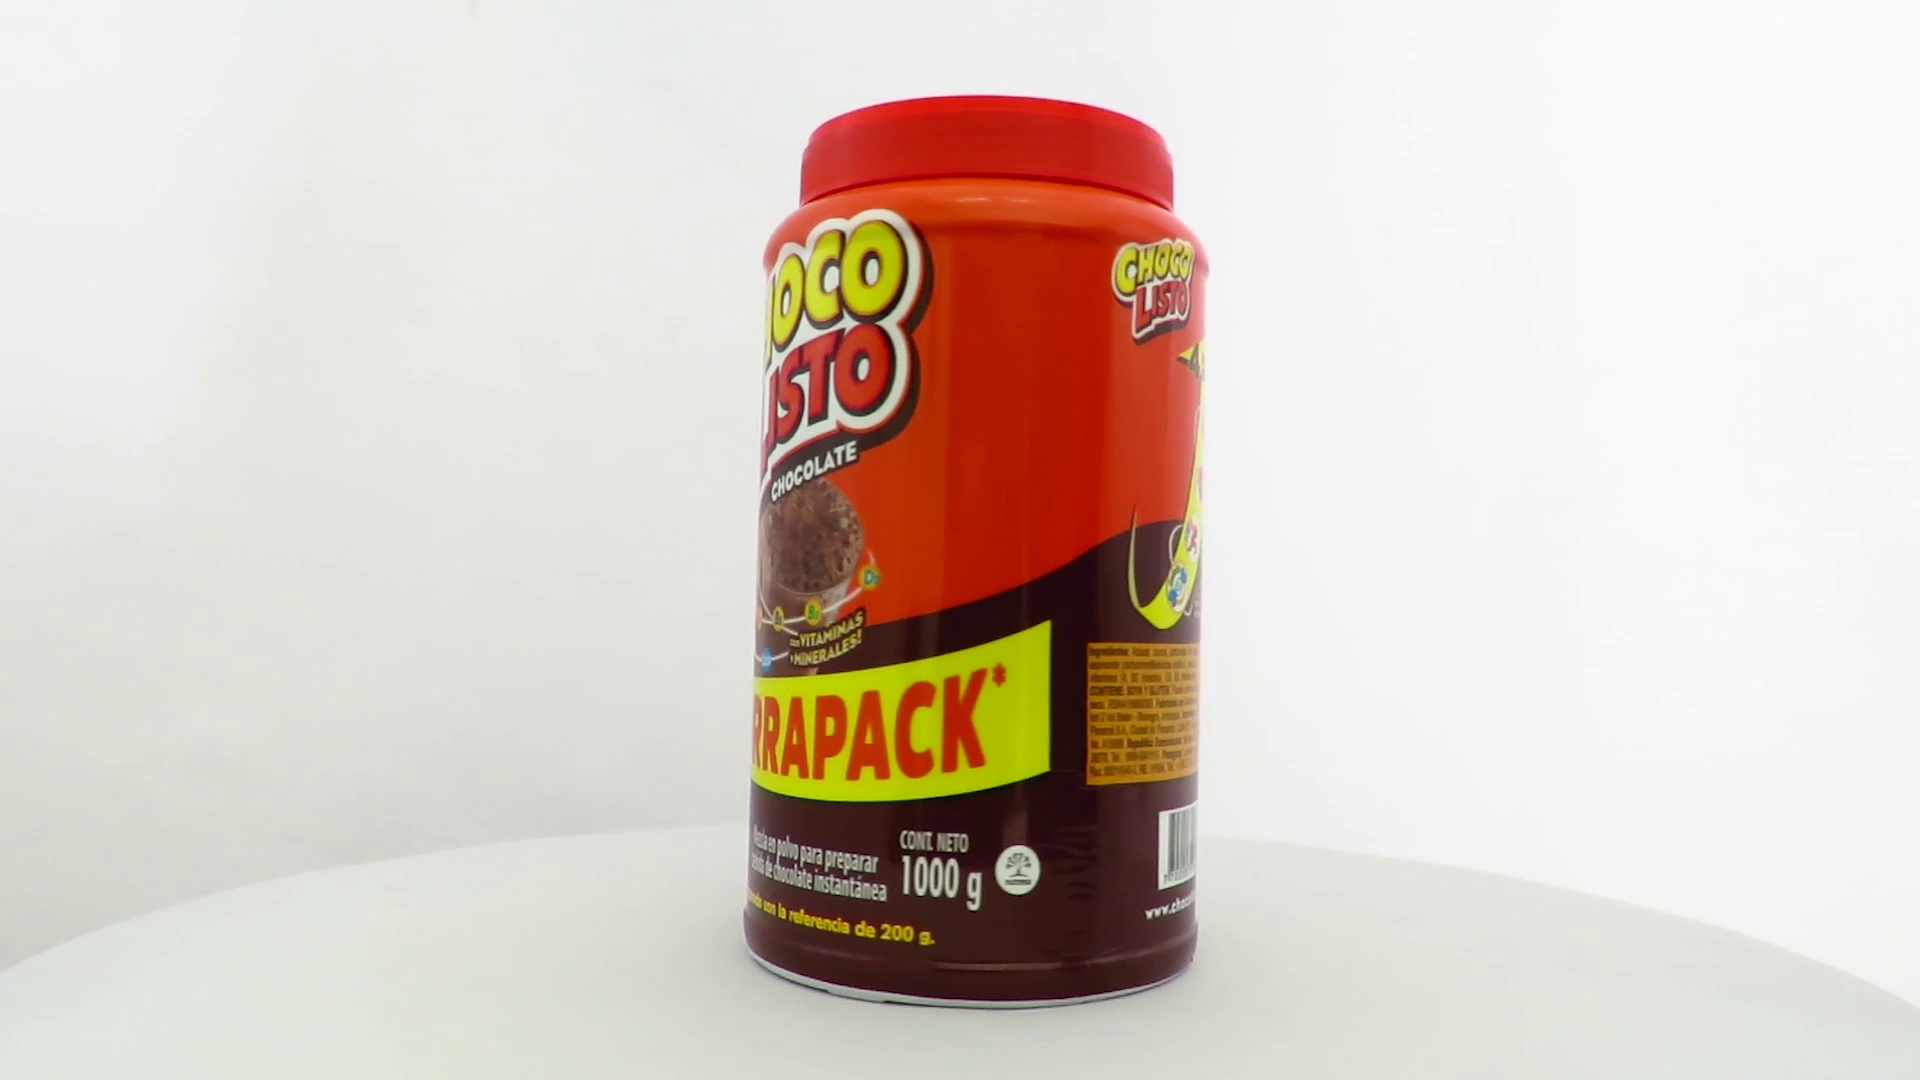COL0170103TRR00100: (738, 90, 1216, 1017)
